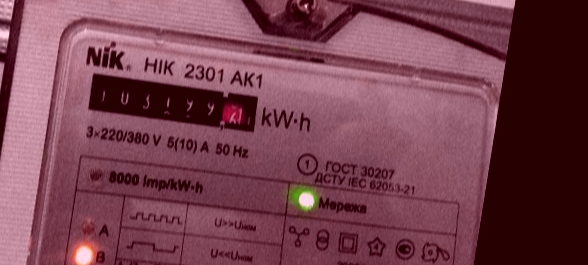0: (118, 86, 132, 106), (95, 83, 107, 103)
1: (162, 90, 174, 109)
3: (140, 89, 153, 111)
6: (227, 108, 239, 123)
9: (183, 92, 196, 113), (204, 97, 217, 117)
screen: (79, 60, 267, 142)
